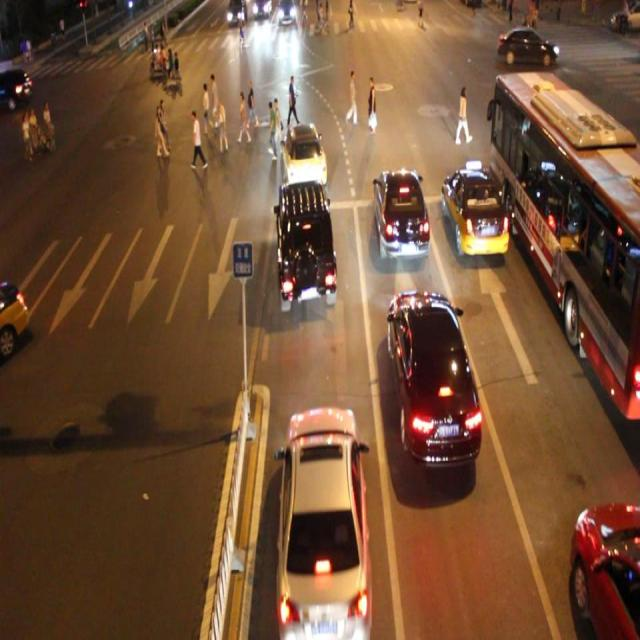car: (275, 405, 373, 640), (386, 288, 480, 462), (568, 499, 640, 640), (276, 180, 338, 308), (441, 170, 508, 260), (372, 167, 429, 264), (284, 122, 327, 186), (496, 24, 556, 65), (1, 276, 29, 360)
van: (491, 71, 640, 418)
